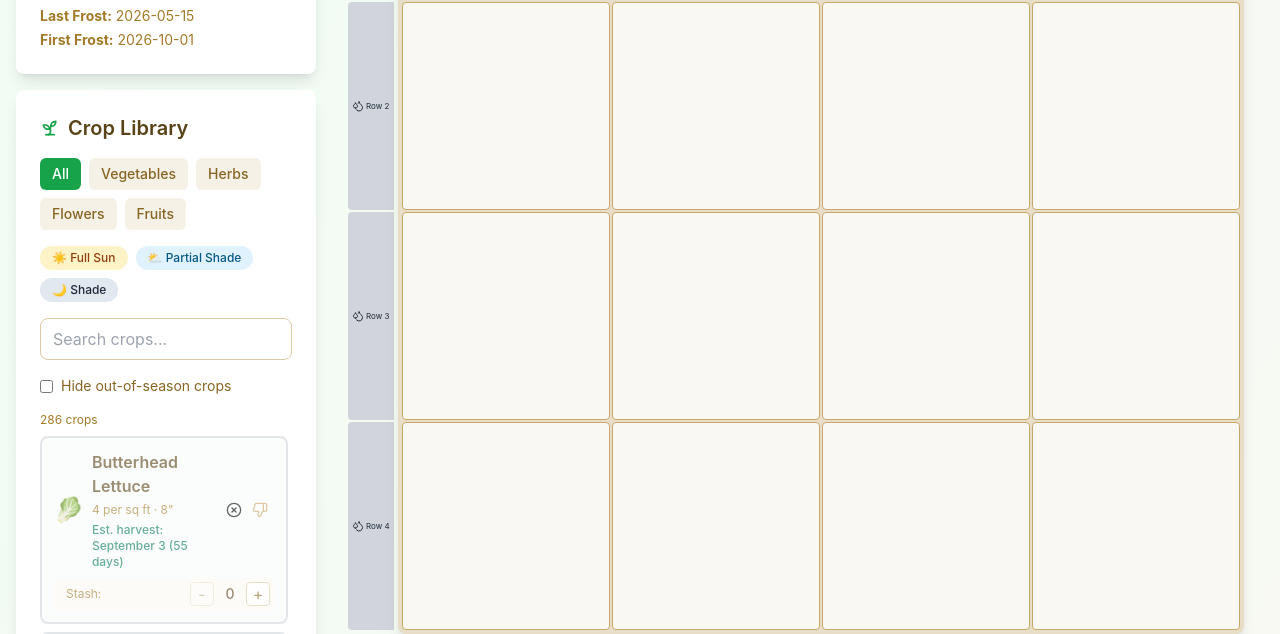
Test: App › allows selecting a crop from library
(page scrolled)
Click the button with aria-label "Select Butterhead Lettuce for planting": point(150, 510) [54,450,246,570]
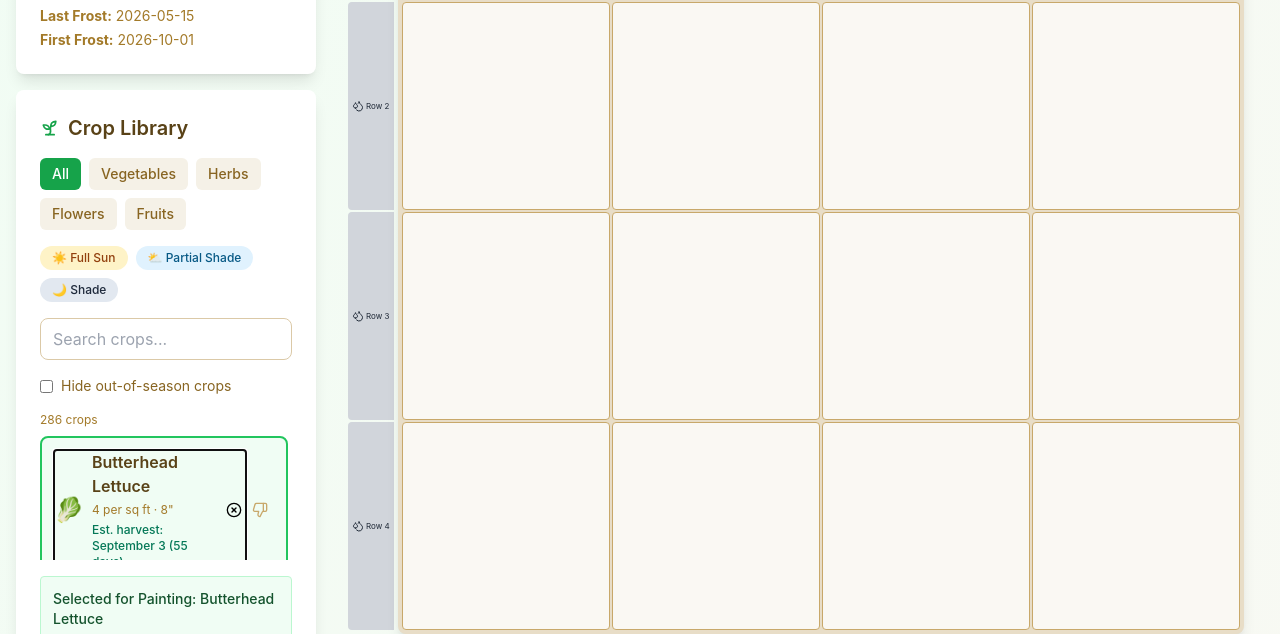
Check: the text "Selected for Painting: Butterhead Lettuce" is shown 2 times
